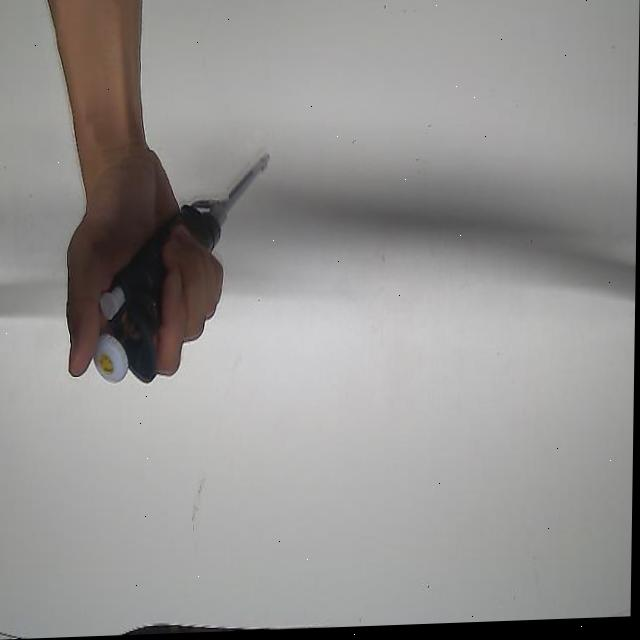Single Channel Pipettor: (93, 147, 276, 391)
